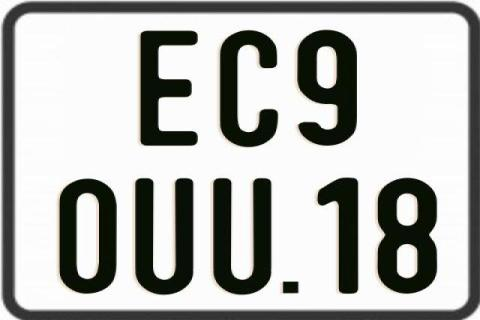0: (374, 176, 438, 294), (294, 28, 356, 148), (57, 178, 116, 296), (315, 176, 359, 294)
C: (218, 30, 276, 150)
E: (139, 31, 200, 146)
U: (133, 177, 197, 293), (213, 178, 274, 298)
